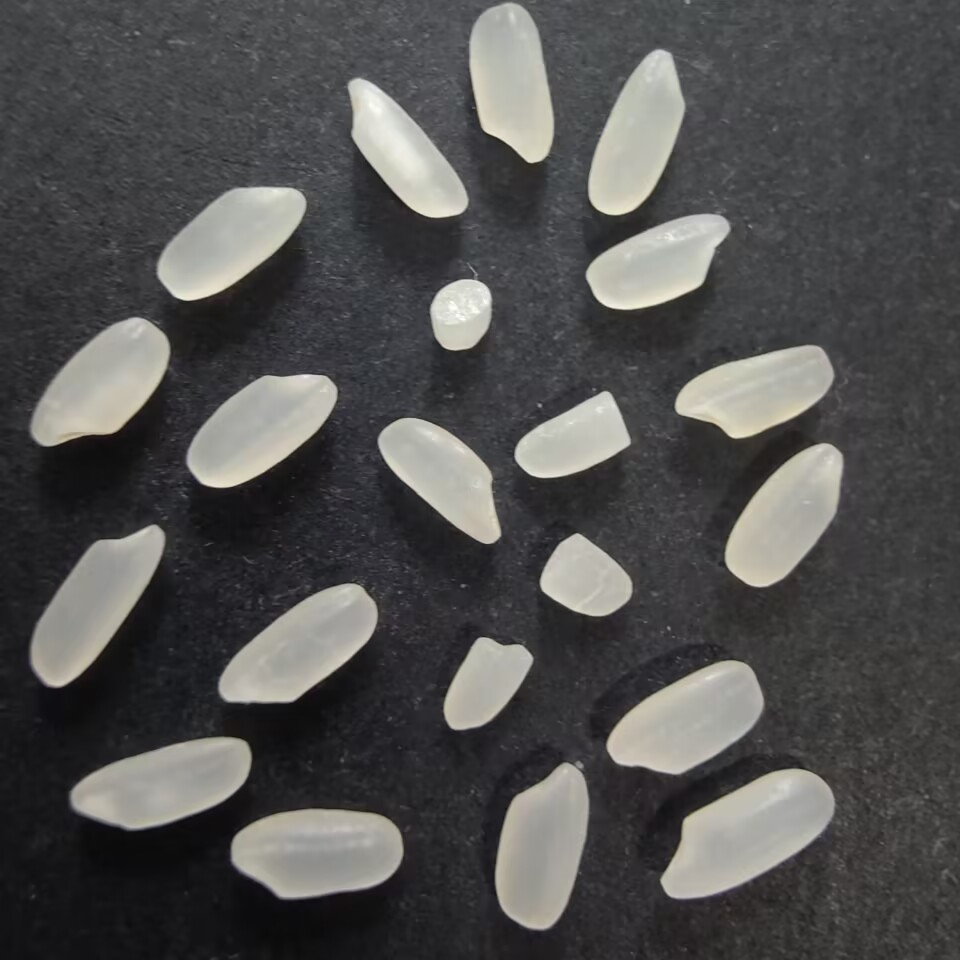broken: (512, 387, 638, 482), (438, 631, 537, 736), (529, 528, 638, 622), (422, 278, 498, 354)
rice: (652, 762, 839, 904), (28, 517, 171, 694), (212, 580, 385, 712), (27, 311, 175, 456), (185, 364, 342, 493), (152, 178, 310, 306), (341, 77, 475, 227), (65, 731, 255, 836), (606, 655, 769, 777), (721, 439, 847, 588), (586, 42, 693, 215), (369, 413, 507, 547), (225, 805, 406, 905), (491, 757, 591, 936), (670, 340, 835, 443), (579, 208, 737, 312), (467, 1, 562, 166)
